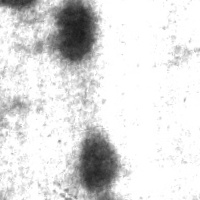patches: (46, 0, 99, 63), (73, 134, 119, 195)
